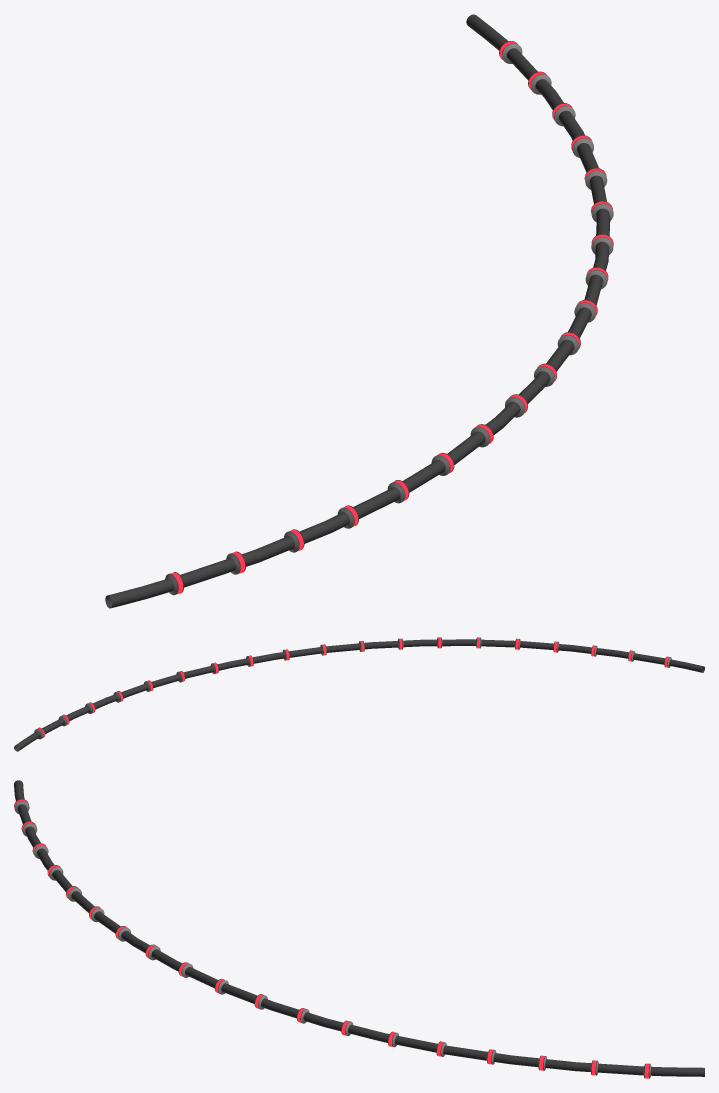
Rendered from Red_Cable_A_12_rounded.fbx.
3 views of the same model, one above another, from view 1: azimuth 30°, elevation 25°; view 2: azimuth 150°, elevation 25°; view 3: azimuth 270°, elevation 25° (orthographic). The views are drawn at different scales.
Parts seen in each view (by area): view 1: Red_Cable_12_rounded.001; view 2: Red_Cable_12_rounded.001; view 3: Red_Cable_12_rounded.001.
Boxes of the visible parts, x1,y1,x2,y2 form: Red_Cable_12_rounded.001: [105, 14, 613, 608]; Red_Cable_12_rounded.001: [14, 637, 704, 751]; Red_Cable_12_rounded.001: [14, 780, 704, 1078].
Bounding box in the file's own units: 11.79 × 0.2585 × 11.87.
